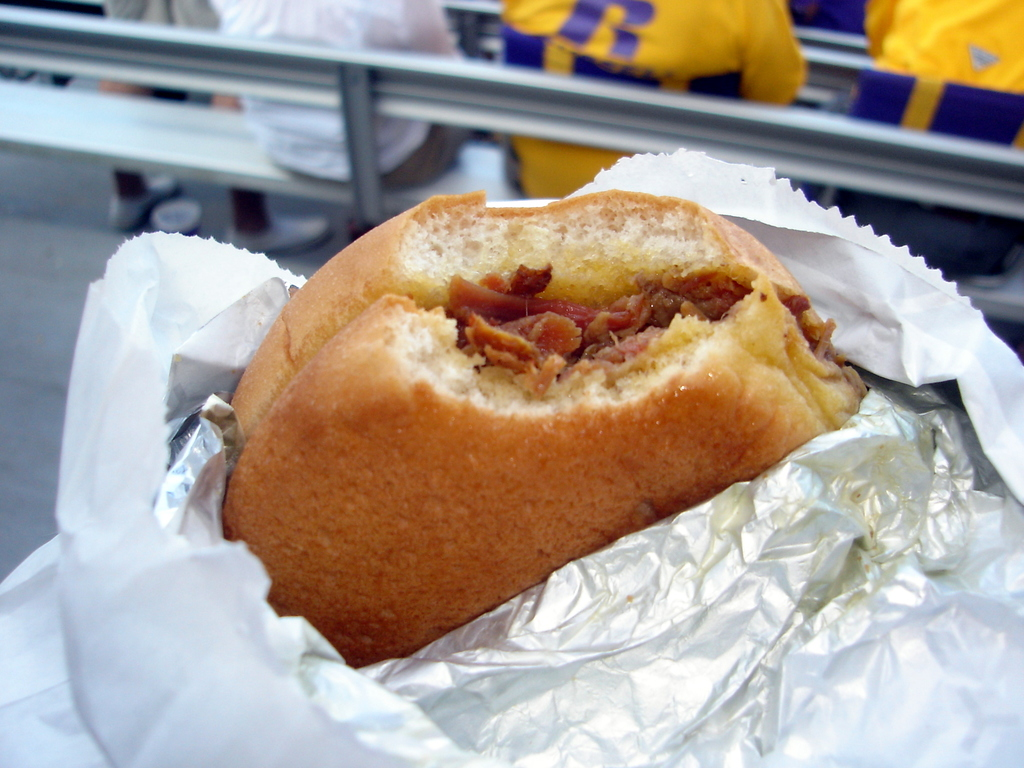hot_dog: (218, 184, 878, 648)
